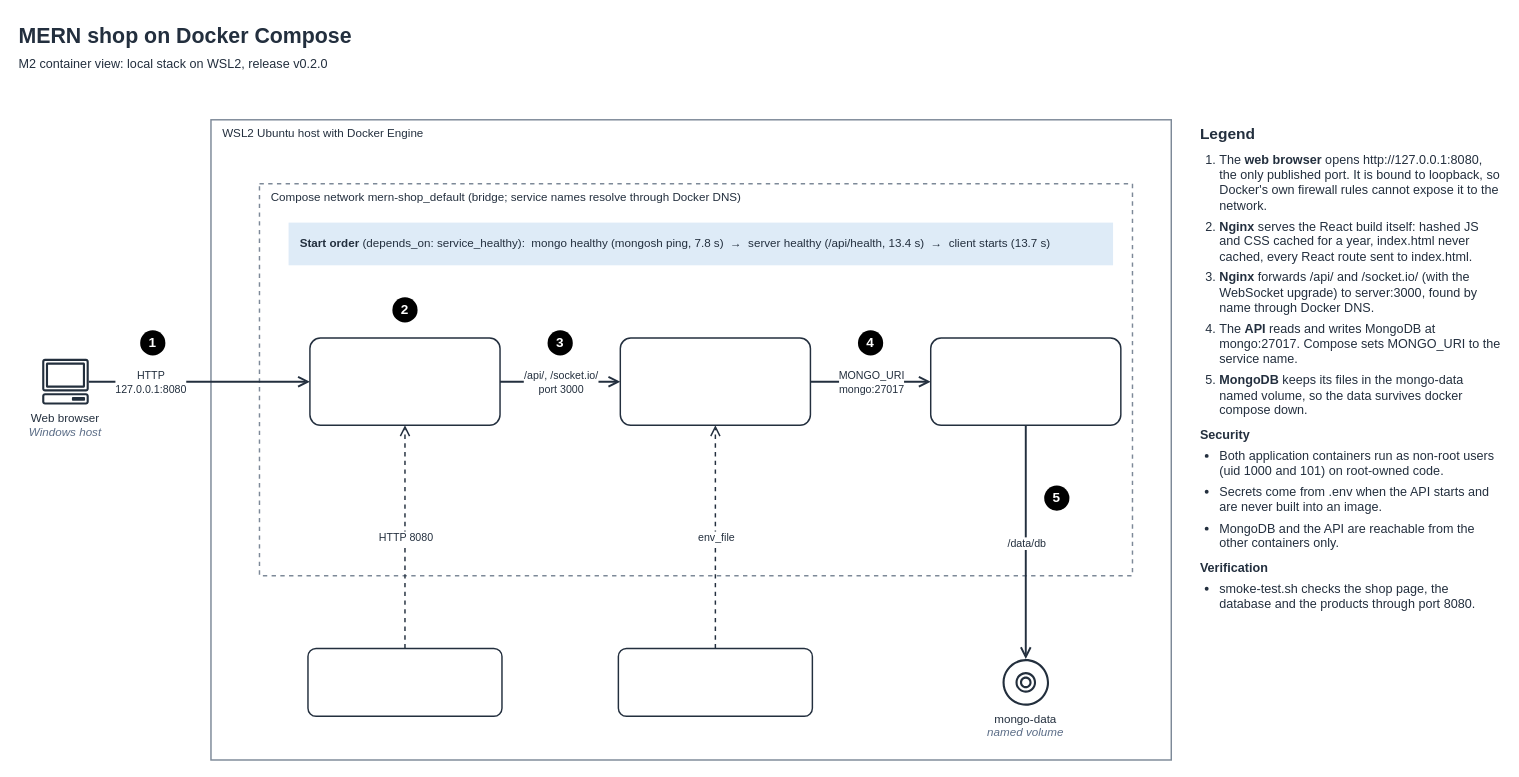
Some shapes in this 1519 by 777 pixel diagram are drawn without their labels. The shapes that lost their labels are listed below. From the top down, each one's centre as x and y in pixels, then its label:
point (404, 381): client: Nginx 1.30 unprivileged, uid 101, port 8080
point (715, 381): server: Express API Node.js 24, uid 1000, port 3000
point (1025, 381): mongo: MongoDB 7.0 port 27017, not published
point (404, 682): scripts/smoke-test.sh same front door, exit 0 or 1
point (715, 682): application/server/.env read at start, never in the image
